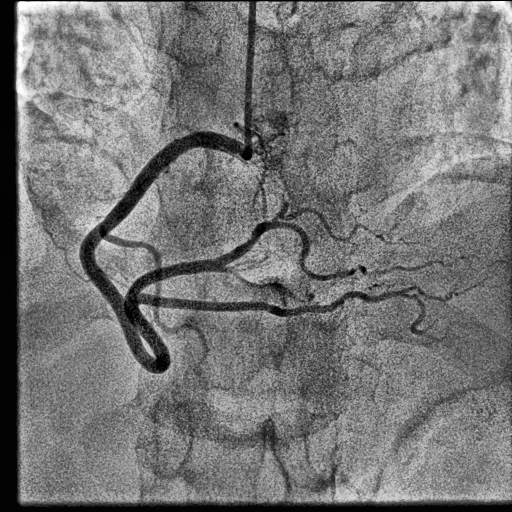pborca: (129, 221, 354, 292)
pda: (139, 291, 434, 335)
rca: (79, 131, 246, 375)
